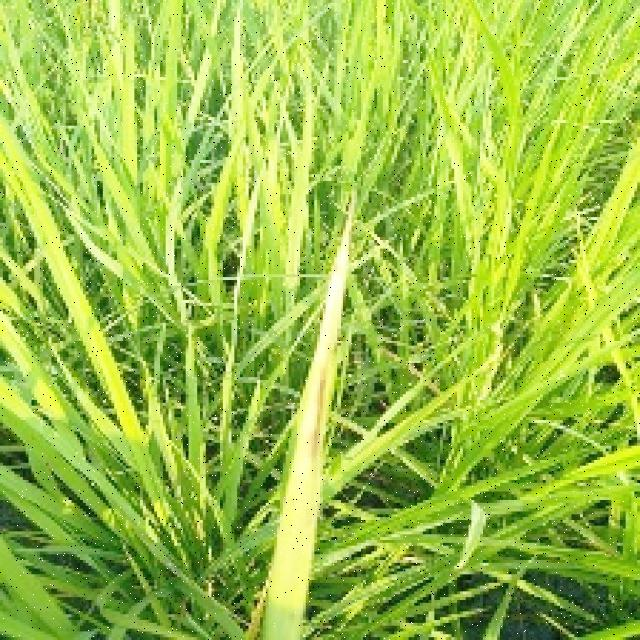unhealth: (272, 221, 359, 640)
